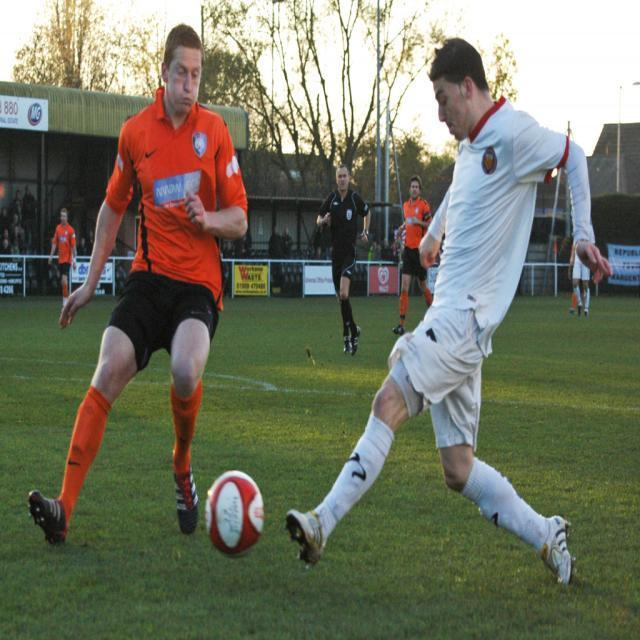football: (202, 466, 275, 564)
